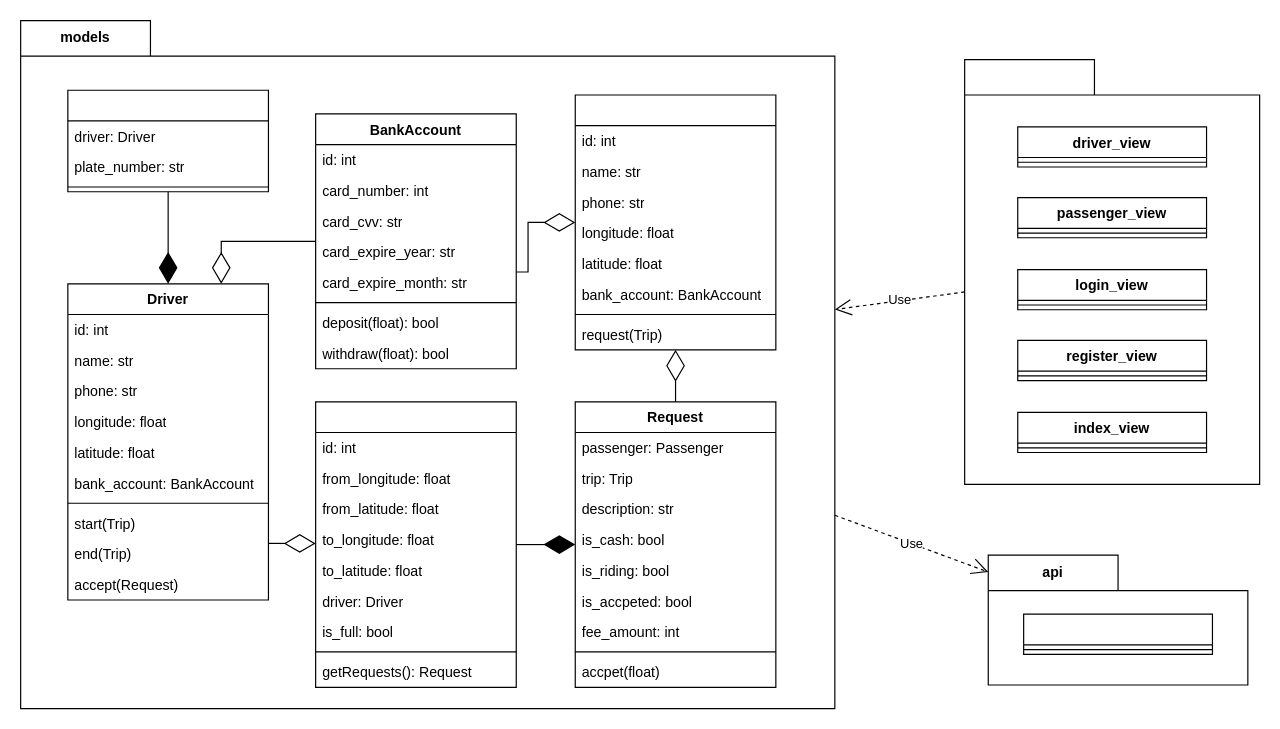
The diagram is 1280 pixels wide and 729 high, and some of its shapes have lost their labels. Here are the shapes that lost their labels. From the top down, the box of each, then its label:
(67, 89, 268, 192): Microbus
(574, 94, 776, 350): Passenger
(963, 58, 1260, 484): views
(314, 401, 516, 687): Trip
(1022, 613, 1212, 654): database
